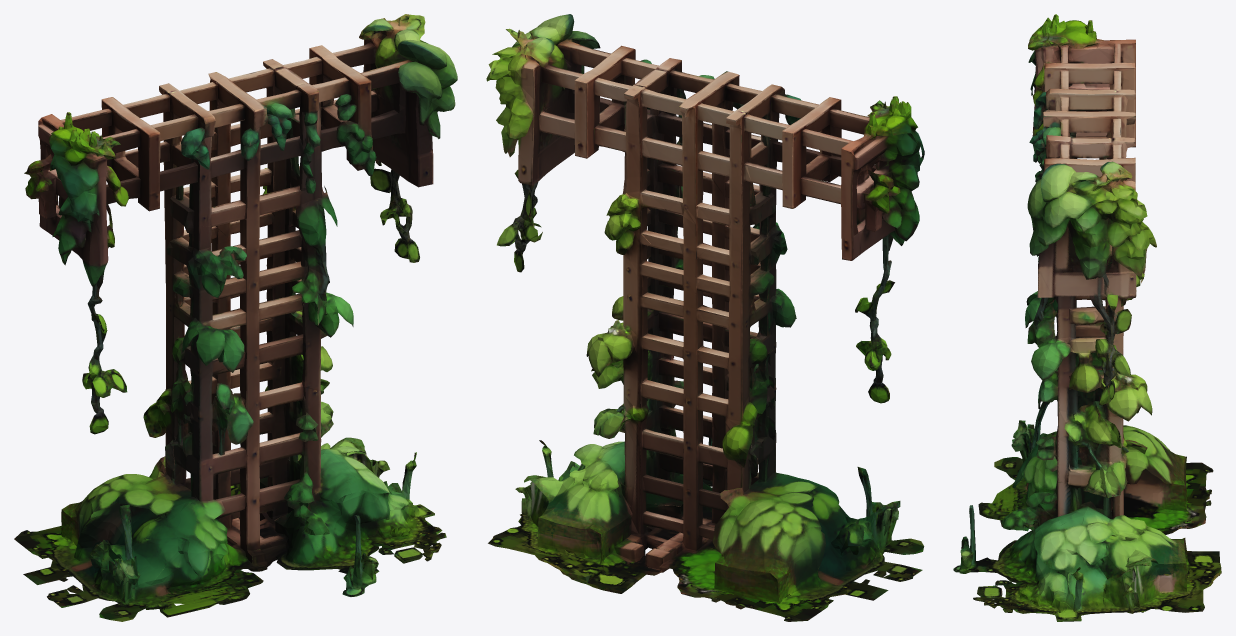
The picture shows the model from 3 angles, left to right: view 1: azimuth 30°, elevation 25°; view 2: azimuth 150°, elevation 25°; view 3: azimuth 270°, elevation 25°; orthographic projection. The views are drawn at different scales.
Visible parts, largest first — view 1: world; view 2: world; view 3: world.
Boxes of the visible parts, x1,y1,x2,y2 form: world: [14, 14, 457, 621]; world: [486, 14, 924, 621]; world: [953, 14, 1221, 621].
Bounding box in the file's own units: 0.8471 × 0.9835 × 0.524.
Materials: 1 (1 with a texture image).
